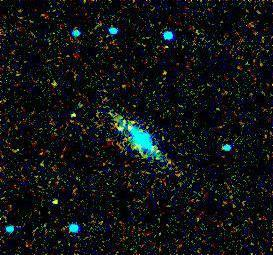star: (102, 111, 132, 141)
